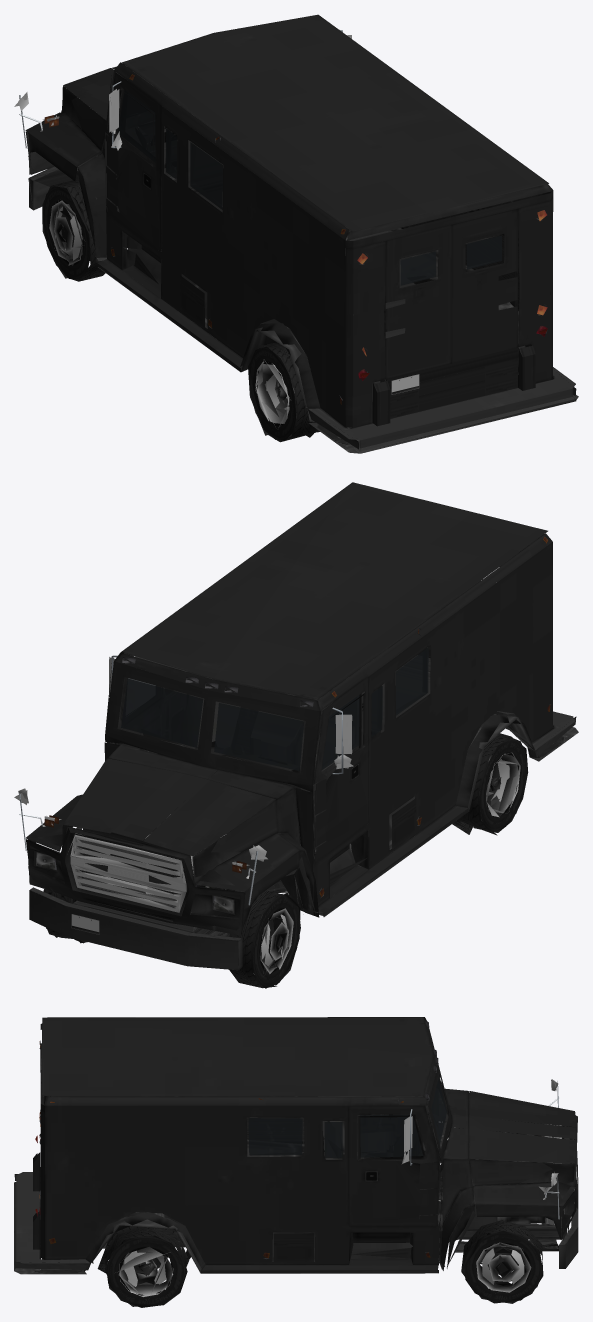
File: md-84-armored-lite.glb
3 renders of one model, top to bottom at view 1: azimuth 30°, elevation 25°; view 2: azimuth 150°, elevation 25°; view 3: azimuth 270°, elevation 25°, orthographic. The views are drawn at different scales.
Visible parts, largest first — view 1: MD84Armored_Blinkers_UCB_Lights_and_Glass_0; view 2: MD84Armored_Blinkers_UCB_Lights_and_Glass_0; view 3: MD84Armored_Blinkers_UCB_Lights_and_Glass_0.
Boxes of the visible parts, x1=… form: MD84Armored_Blinkers_UCB_Lights_and_Glass_0: x1=14, y1=14, x2=578, y2=453; MD84Armored_Blinkers_UCB_Lights_and_Glass_0: x1=14, y1=482, x2=578, y2=988; MD84Armored_Blinkers_UCB_Lights_and_Glass_0: x1=14, y1=1017, x2=578, y2=1307.
Size of the model in its own units: 2.4 by 2.32 by 5.59.
Materials: 7 (7 with a texture image).
